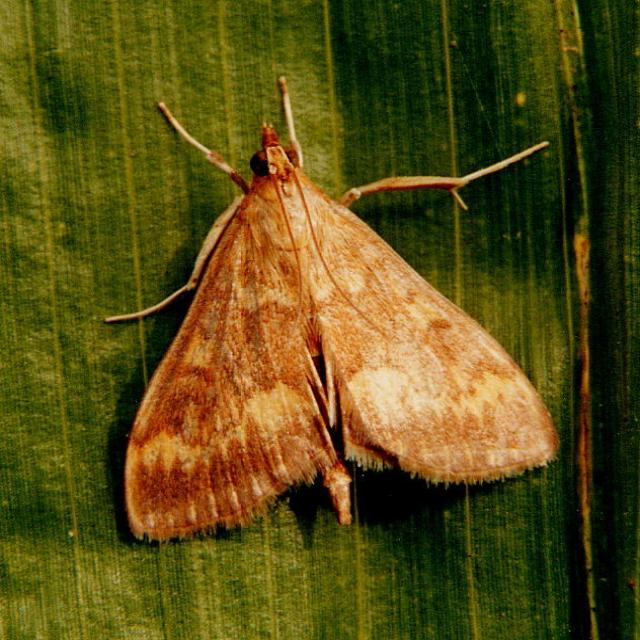cornborer-Adult-: (75, 59, 571, 557)
